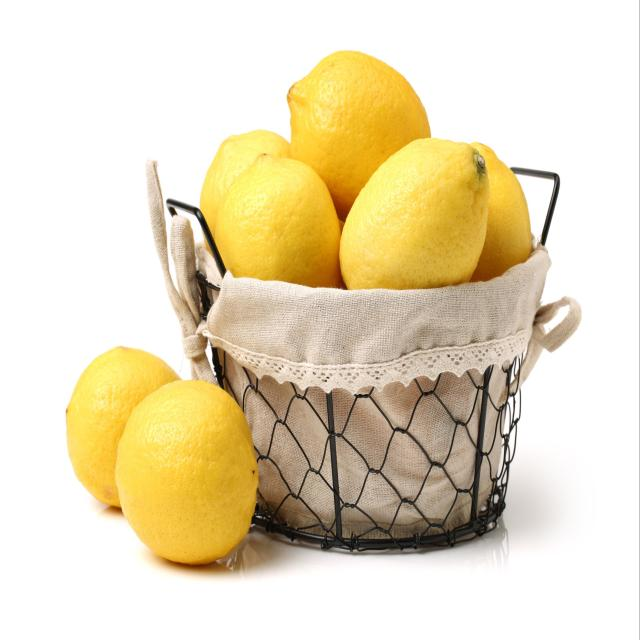lemon: (113, 377, 260, 567), (284, 46, 436, 228)
